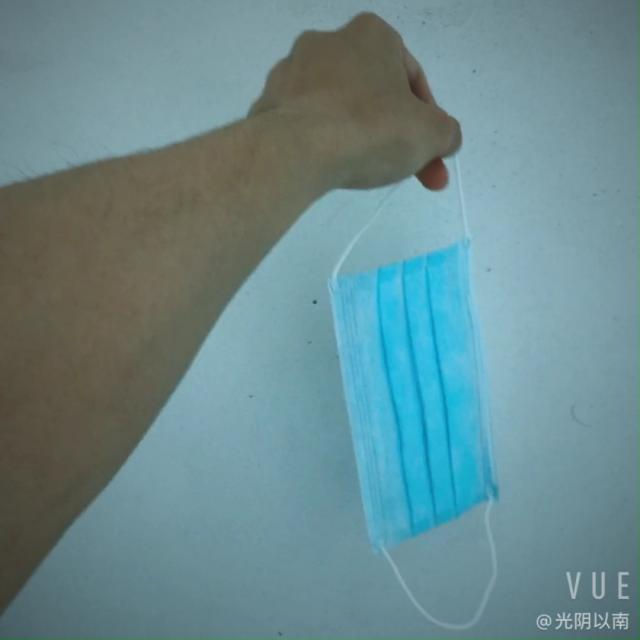face mask: (312, 220, 520, 566)
